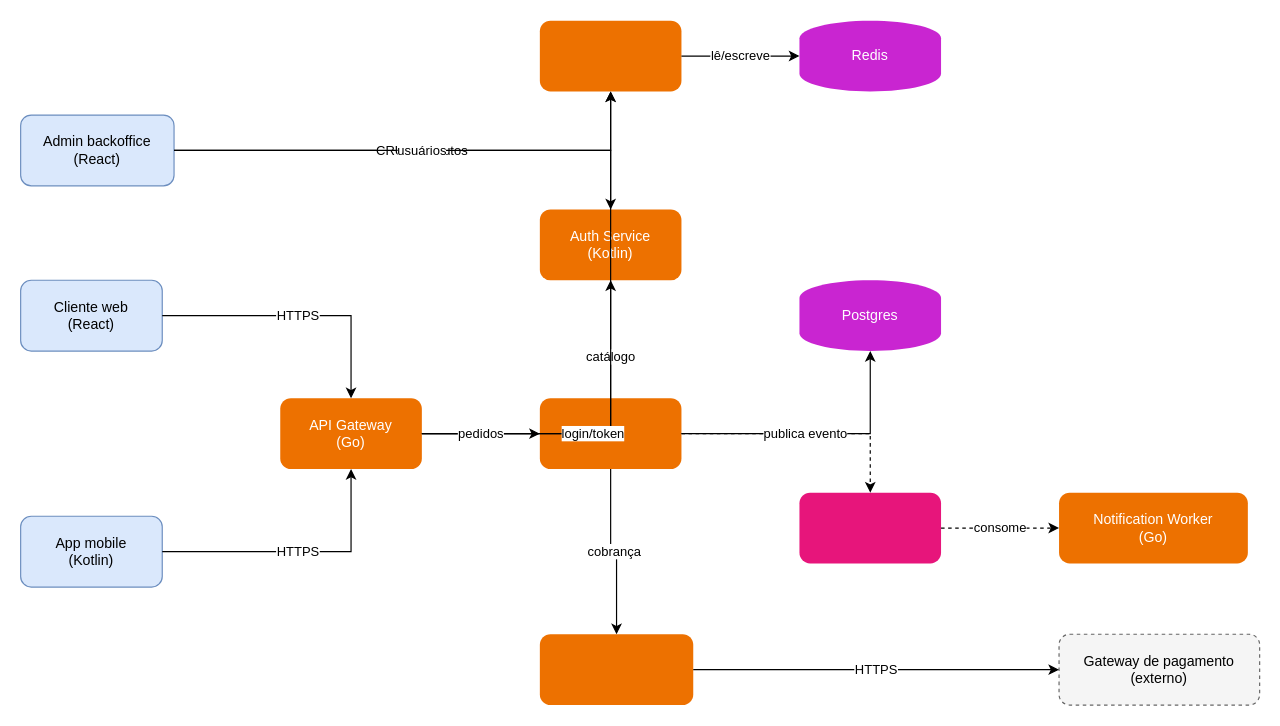
This 1280x726 diagram has some shape labels left out. The shapes that lost their labels are listed below. From the top down, each one's box as (x1, y1, x2, y2) in pixels, then its label:
(539, 20, 681, 91): Catalog Service (Python)
(539, 398, 681, 468): Order Service (Kotlin)
(799, 492, 940, 563): Kafka
(539, 634, 693, 704): Payment Service (Kotlin)
